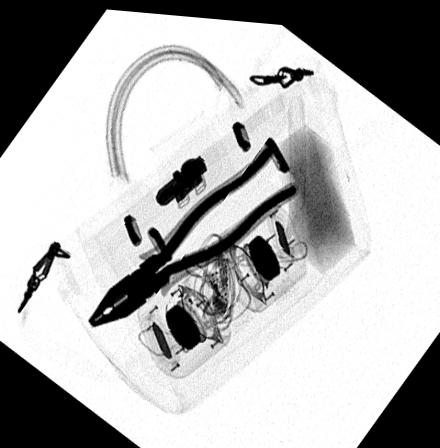Pliers: (86, 138, 296, 324)
